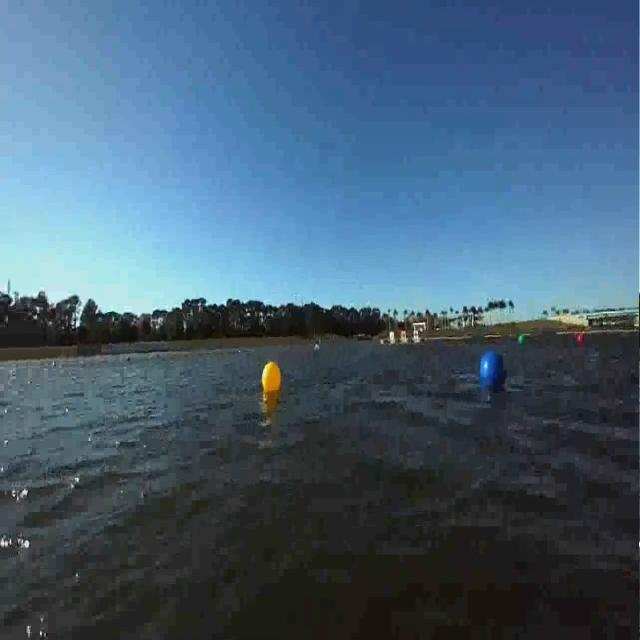blue-buoy: (478, 349, 508, 393)
green-buoy: (519, 335, 526, 346)
yellow-buoy: (263, 360, 283, 392)
